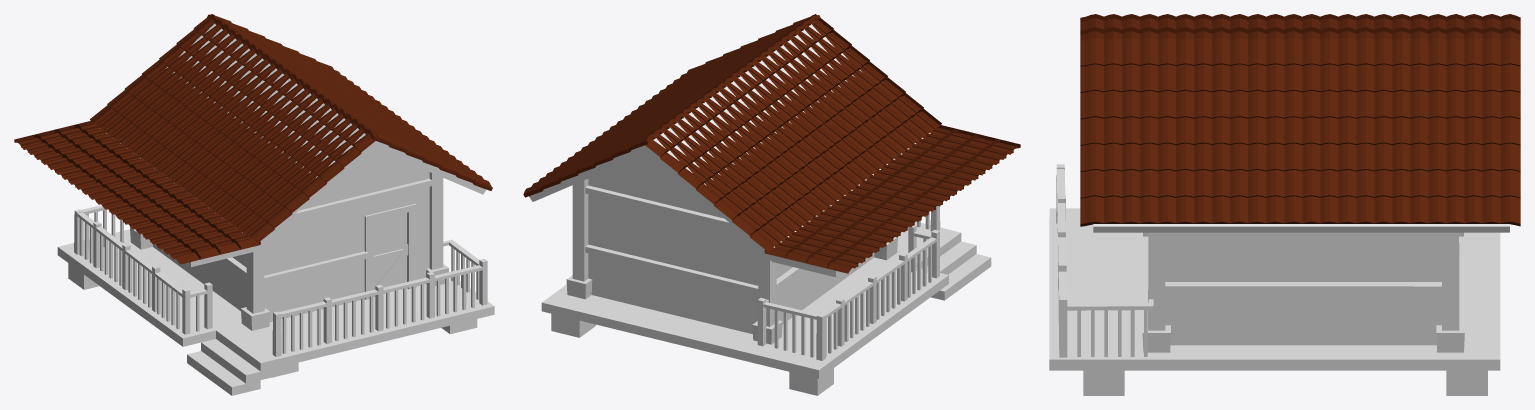
The model's file is rumah kayu 1.fbx.
3 renders of one model, left to right at view 1: azimuth 30°, elevation 25°; view 2: azimuth 150°, elevation 25°; view 3: azimuth 270°, elevation 25°, orthographic. The views are drawn at different scales.
Parts seen in each view (by area): view 1: Plane; view 2: Plane; view 3: Plane.
Part boxes in pixels (bbox=[...]): Plane: bbox=[14, 14, 494, 395]; Plane: bbox=[523, 14, 1020, 395]; Plane: bbox=[1049, 14, 1520, 395].
Size of the model in its own units: 2316 by 1549 by 2270.
